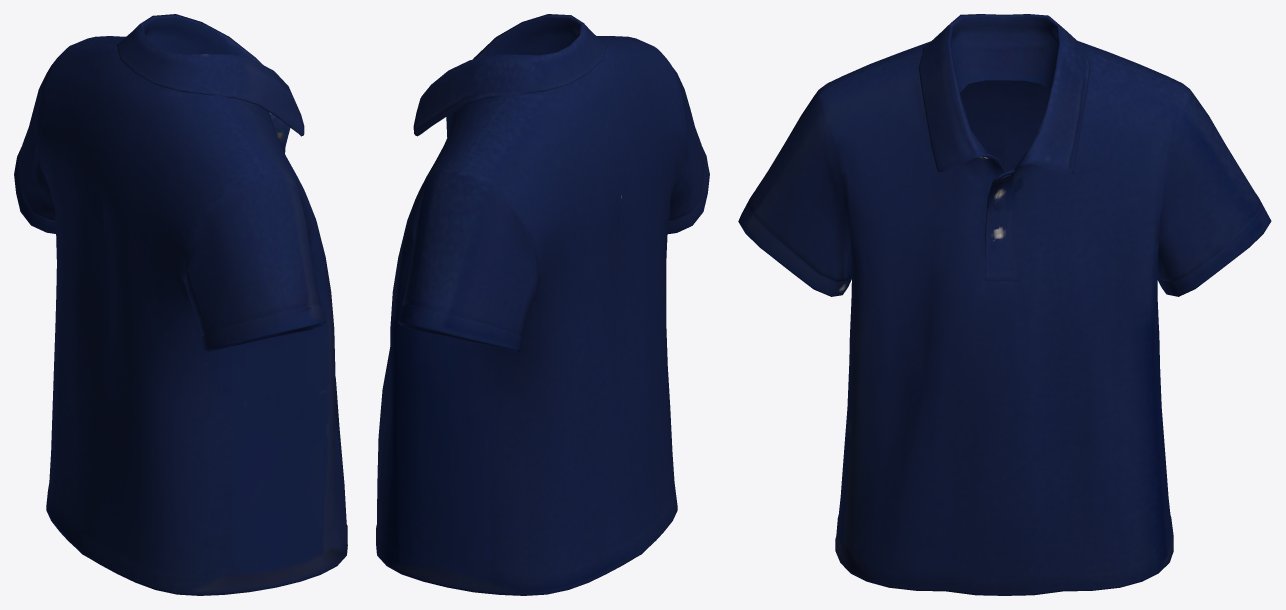
Rendered from camisa_polo_azul_marinho.glb.
The picture shows the model from 3 angles, left to right: view 1: azimuth 30°, elevation 25°; view 2: azimuth 150°, elevation 25°; view 3: azimuth 270°, elevation 25°; orthographic projection. The views are drawn at different scales.
Parts seen in each view (by area): view 1: camisa_polo_azul_marinho; view 2: camisa_polo_azul_marinho; view 3: camisa_polo_azul_marinho.
Boxes of the visible parts, bbox=[...] form: camisa_polo_azul_marinho: bbox=[14, 14, 347, 595]; camisa_polo_azul_marinho: bbox=[376, 14, 709, 595]; camisa_polo_azul_marinho: bbox=[738, 14, 1271, 595].
Bounding box in the file's own units: 0.1626 × 0.3423 × 0.3247.
Materials: 1 (1 with a texture image).
